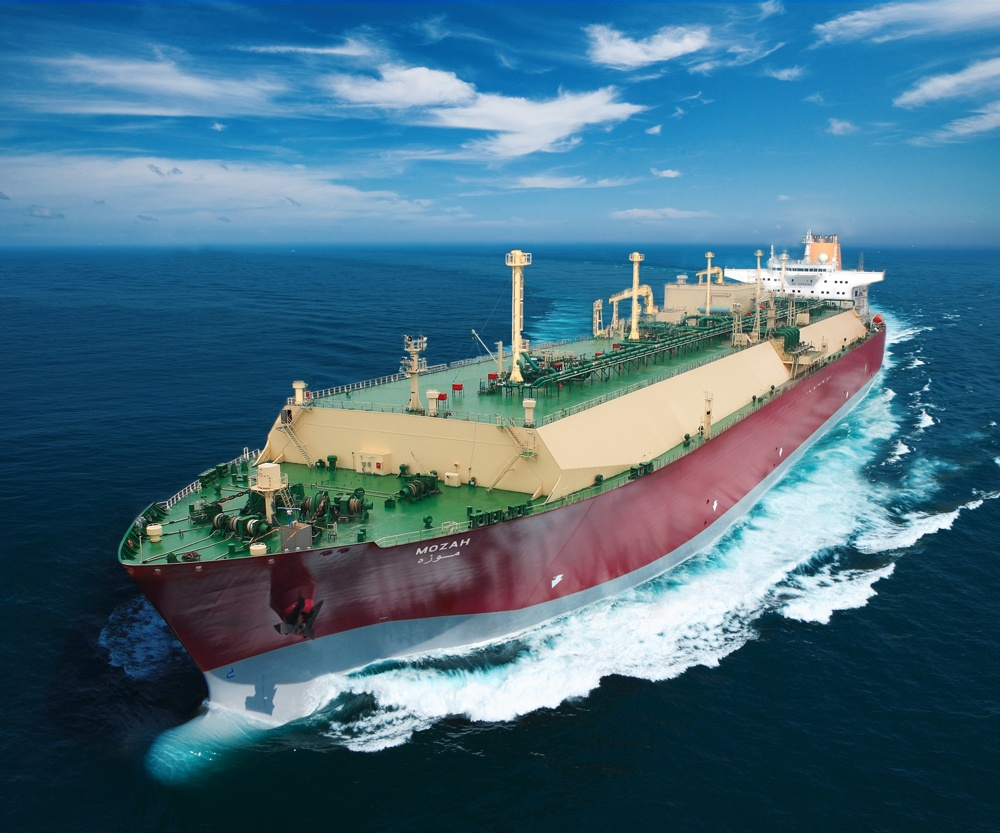Cargoship: (127, 223, 886, 691)
